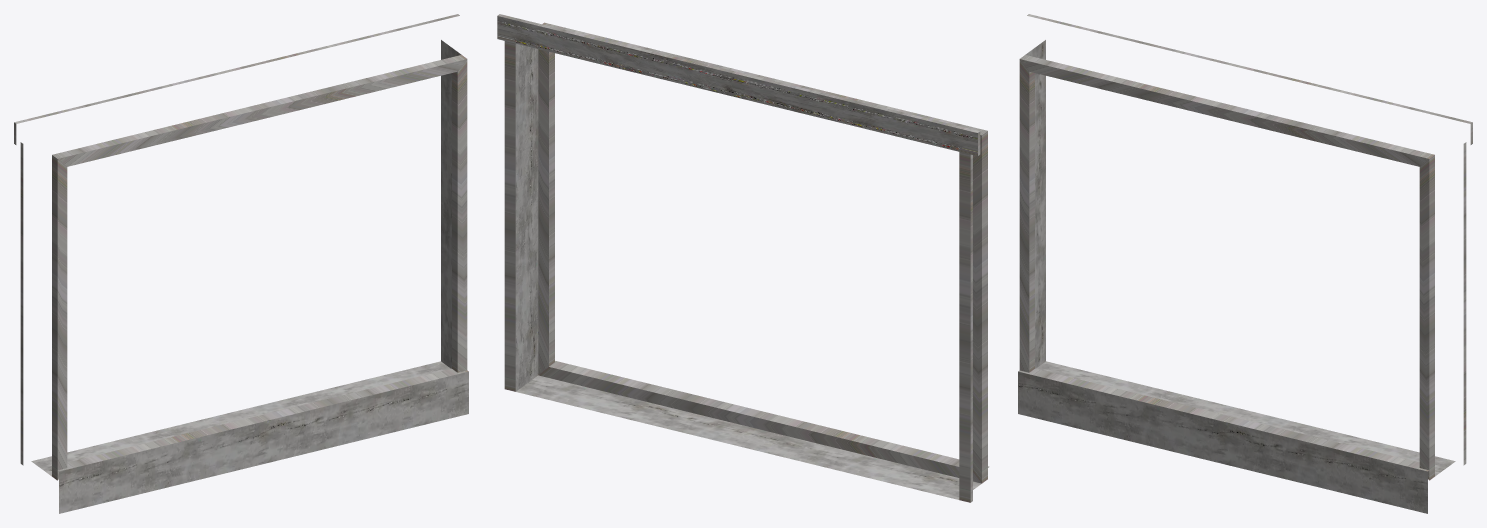
The model's file is window_corridor_large.glb.
3 views of the same model, side by side, from view 1: azimuth 30°, elevation 25°; view 2: azimuth 150°, elevation 25°; view 3: azimuth 330°, elevation 25° (orthographic). The views are drawn at different scales.
Visible parts, largest first — view 1: window_corridor_large; view 2: window_corridor_large; view 3: window_corridor_large.
Boxes of the visible parts, x1,y1,x2,y2 form: window_corridor_large: [14, 14, 468, 513]; window_corridor_large: [497, 14, 989, 502]; window_corridor_large: [1018, 14, 1472, 513].
Bounding box in the file's own units: 2.71 × 2.19 × 0.2964.
1 material, 1 textured.
